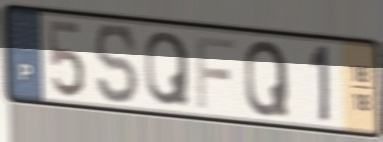1: (307, 43, 331, 126)
5: (45, 16, 88, 100)
F: (193, 33, 239, 111)
Q: (242, 37, 292, 119), (143, 29, 192, 109)
S: (92, 21, 141, 107)
